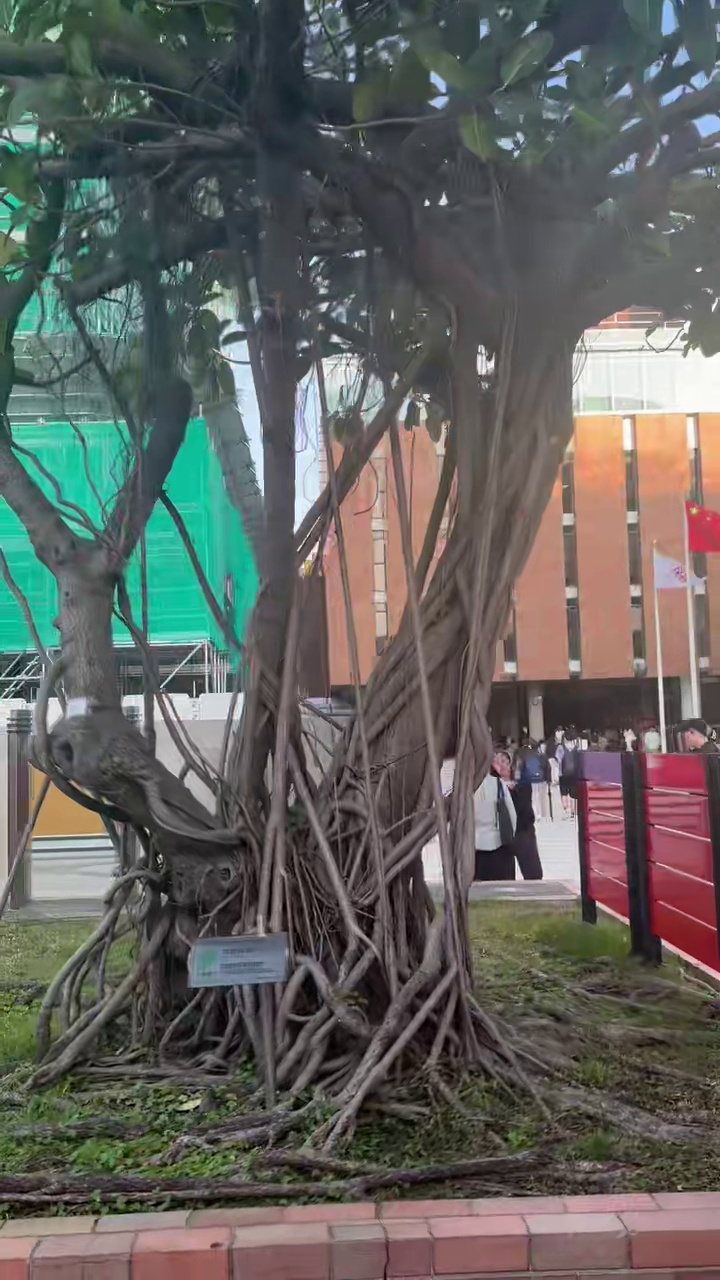Ficus elastica: (0, 0, 719, 1149)
